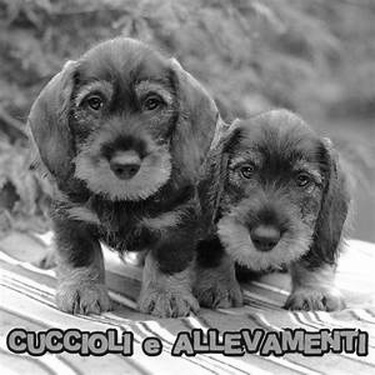dog: (15, 23, 238, 335), (182, 87, 354, 328)
